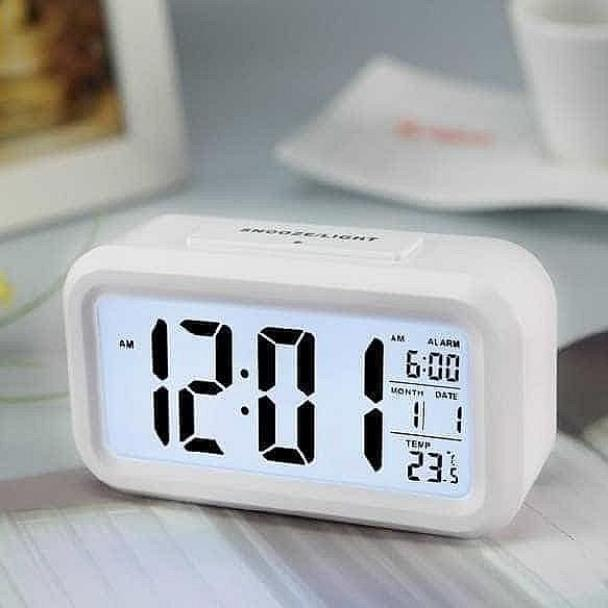Jam: (67, 248, 517, 536)
